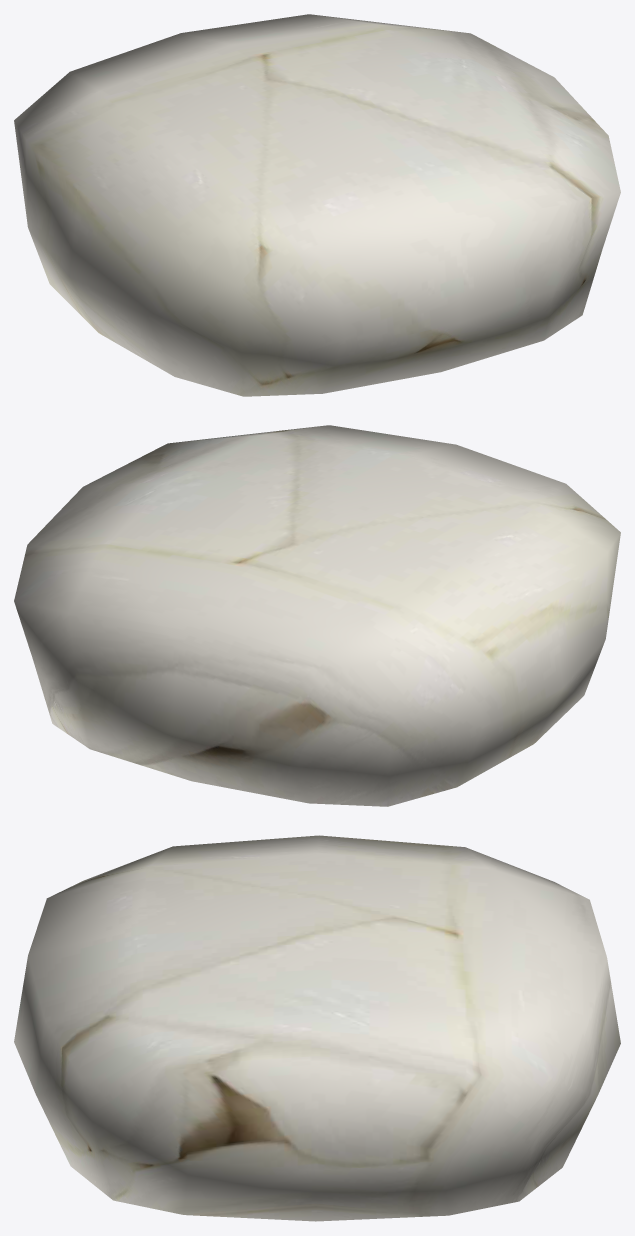
File: queso-oaxaca.glb
The picture shows the model from 3 angles, top to bottom: view 1: azimuth 30°, elevation 25°; view 2: azimuth 150°, elevation 25°; view 3: azimuth 270°, elevation 25°; orthographic projection. The views are drawn at different scales.
Parts seen in each view (by area): view 1: queso-oaxaca; view 2: queso-oaxaca; view 3: queso-oaxaca.
Part boxes in pixels (x1=…): queso-oaxaca: x1=14, y1=14, x2=620, y2=396; queso-oaxaca: x1=14, y1=425, x2=620, y2=806; queso-oaxaca: x1=14, y1=835, x2=620, y2=1221.
Size of the model in its own units: 0.2137 by 0.0769 by 0.2161.
Materials: 1 (1 with a texture image).
